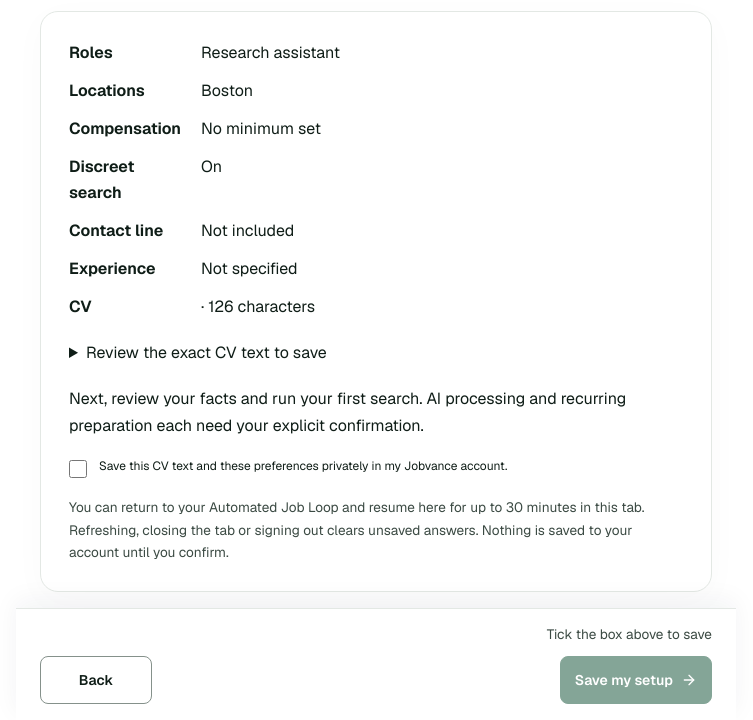
Test case: the "Check my saved dashboard" link is for load and save problems › is not shown beside an answer that is found missing when Save is pressed
(page scrolled)
Expected: the button "Save my setup" is shown, top-left (560, 656), bottom-right (712, 704)
Click the checkbox labelled "Save this CV text": (78, 469) top-left (69, 460), bottom-right (87, 478)
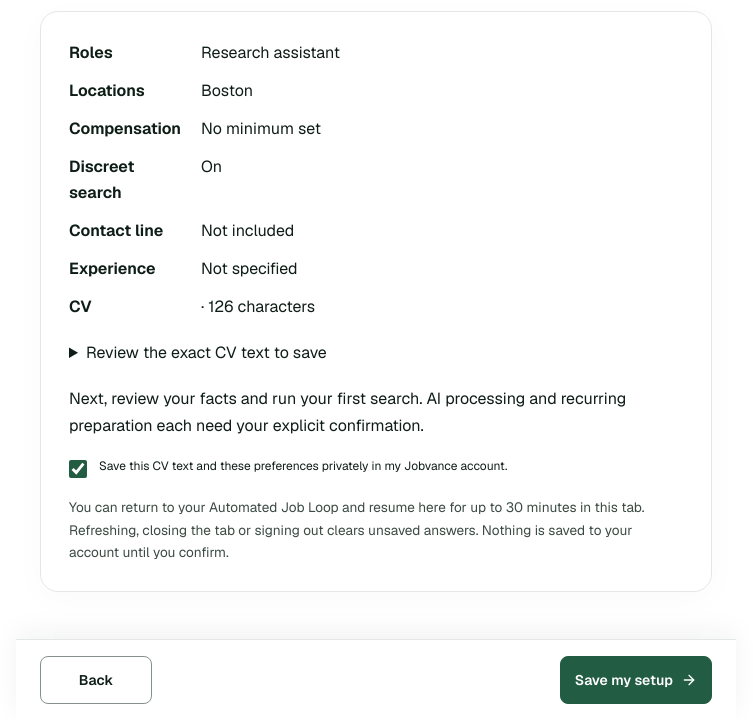
Click the button "Save my setup": (636, 680) top-left (560, 656), bottom-right (712, 704)
(page scrolled)
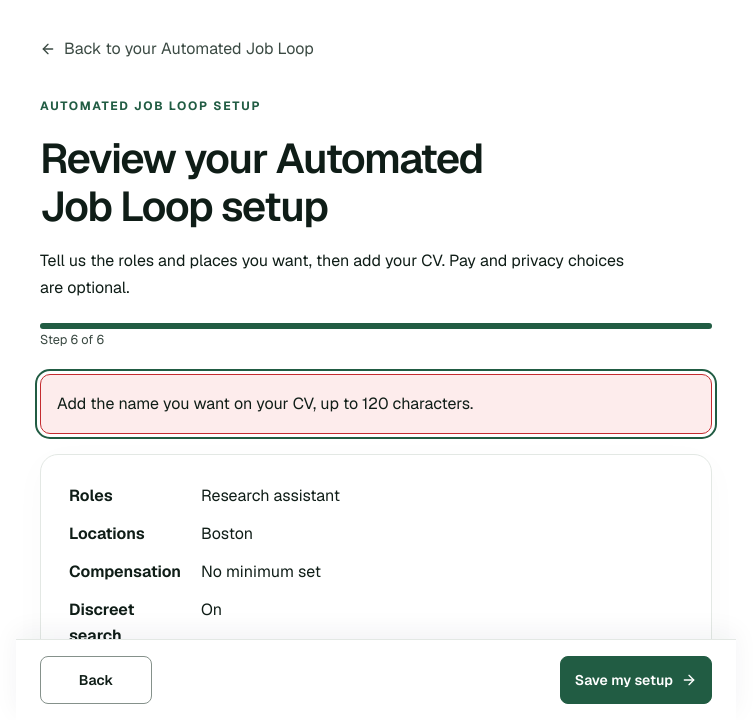
Result: the message shows "Add the name you want on your CV" at top-left (57, 393), bottom-right (473, 414)
